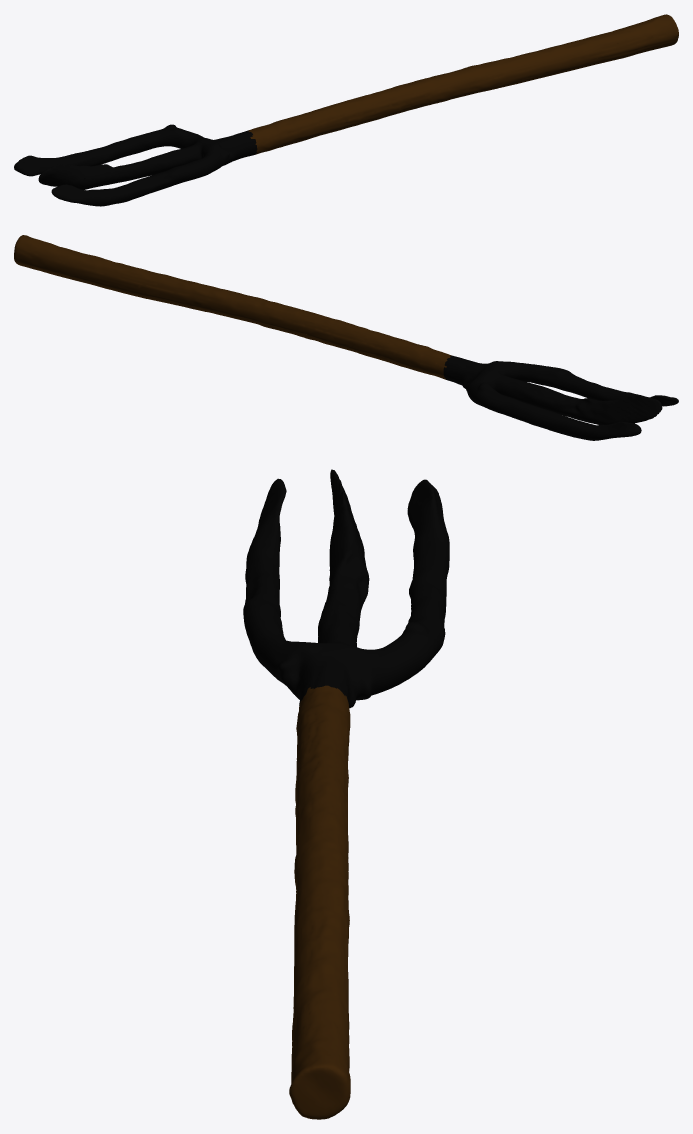
Rendered from Pitchfork.fbx.
The picture shows the model from 3 angles, top to bottom: view 1: azimuth 30°, elevation 25°; view 2: azimuth 150°, elevation 25°; view 3: azimuth 270°, elevation 25°; orthographic projection. The views are drawn at different scales.
Visible parts, largest first — view 1: Mesh_0; view 2: Mesh_0; view 3: Mesh_0.
Boxes of the visible parts, x1=… form: Mesh_0: x1=14, y1=14, x2=678, y2=206; Mesh_0: x1=14, y1=235, x2=678, y2=440; Mesh_0: x1=243, y1=469, x2=449, y2=1119.
Bounding box in the file's own units: 200 × 13.31 × 28.33.
